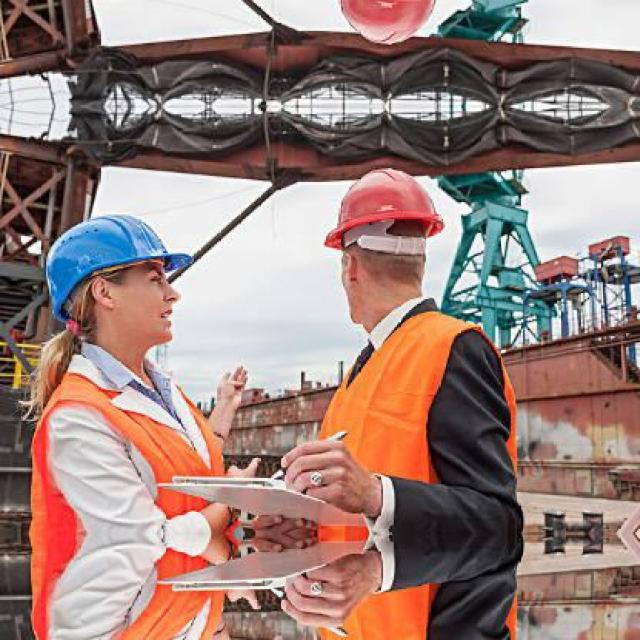Reflective-Jacket: (298, 304, 516, 634), (28, 367, 234, 640)
Safety-Helmet: (34, 206, 191, 318), (318, 162, 451, 257)
